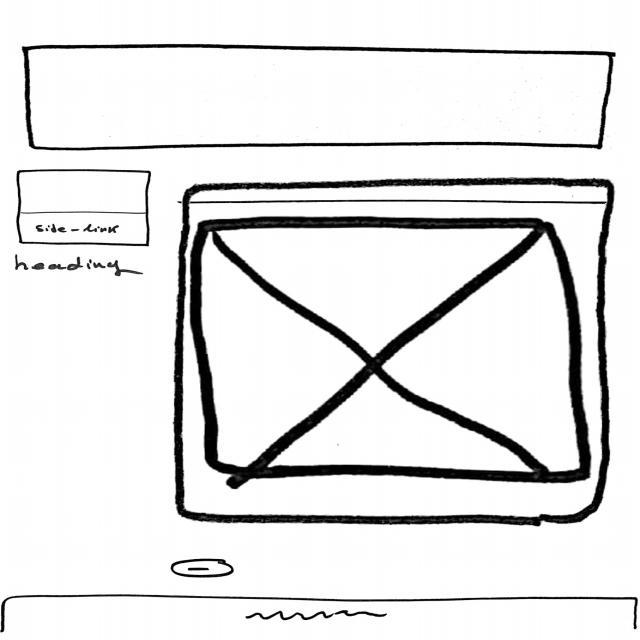container: (174, 179, 614, 528), (23, 45, 615, 151), (14, 169, 154, 247)
icon-button: (171, 558, 239, 579)
image: (194, 217, 594, 485)
label: (10, 255, 146, 279), (33, 224, 121, 237)
text: (244, 610, 392, 623)
